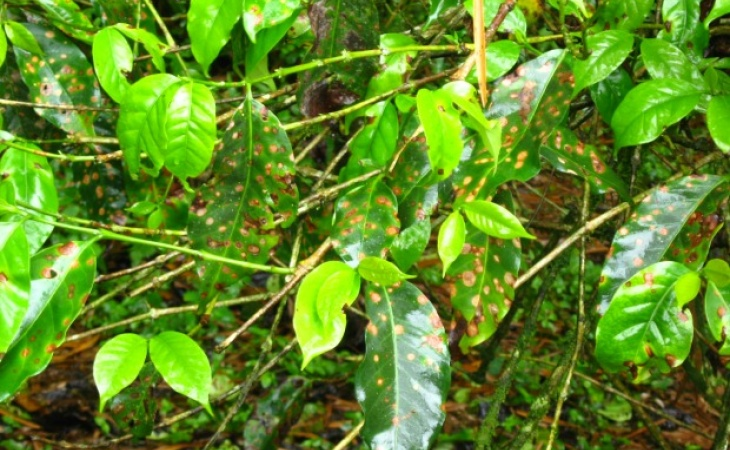ojo de gallo: (350, 171, 506, 343), (186, 112, 306, 294)
